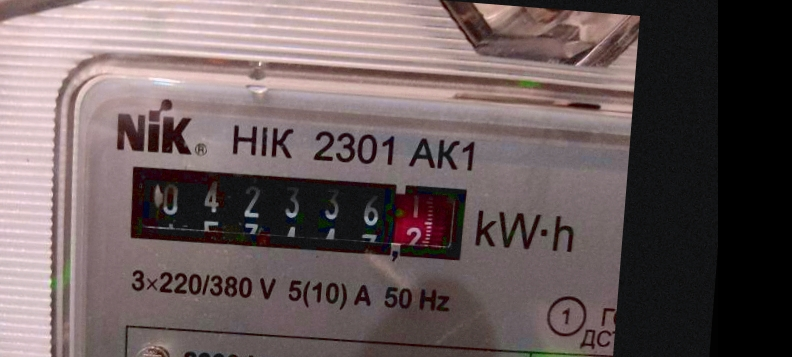0: (159, 179, 182, 216)
1: (407, 190, 422, 220)
2: (240, 182, 263, 219), (402, 224, 423, 246)
3: (281, 181, 303, 221), (319, 184, 342, 222)
4: (200, 176, 222, 214)
6: (358, 190, 382, 227)
screen: (118, 152, 477, 272)
